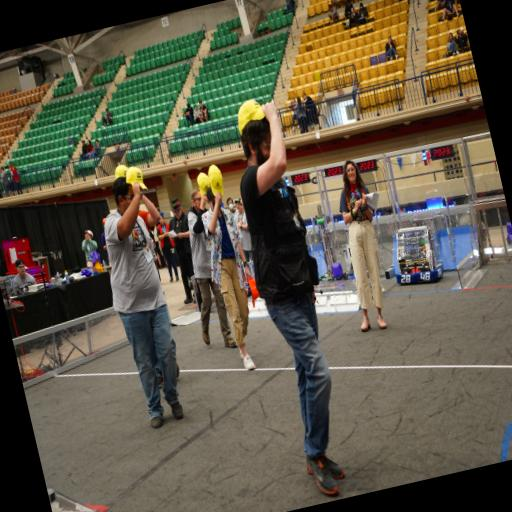robot: (384, 222, 447, 292), (302, 216, 358, 293)
